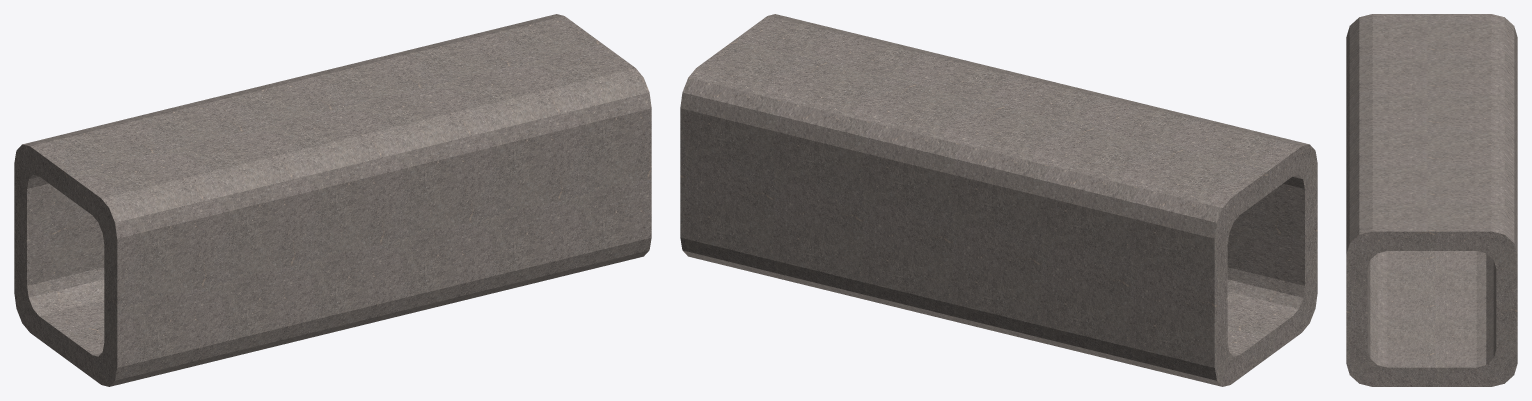
Rendered from Block.fbx.
The picture shows the model from 3 angles, left to right: view 1: azimuth 30°, elevation 25°; view 2: azimuth 150°, elevation 25°; view 3: azimuth 270°, elevation 25°; orthographic projection. The views are drawn at different scales.
Parts seen in each view (by area): view 1: Block; view 2: Block; view 3: Block.
Part boxes in pixels (box(x1,y1,x2,y2)): Block: box(14, 14, 651, 386); Block: box(680, 14, 1317, 386); Block: box(1346, 14, 1517, 386).
Bounding box in the file's own units: 6 × 2 × 2.
